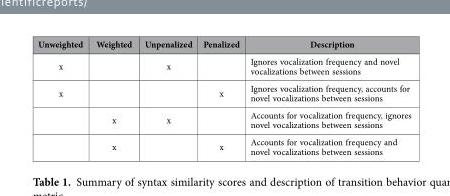table: (37, 37, 410, 157)
table column: (244, 37, 410, 157), (137, 37, 197, 157), (37, 37, 88, 157), (88, 37, 137, 157), (197, 37, 244, 157)
table column header: (37, 37, 410, 52)
table row: (37, 52, 410, 79), (37, 79, 410, 106), (37, 106, 410, 132), (37, 132, 410, 157), (37, 37, 410, 52)
table spanning cell: (37, 79, 88, 157)
